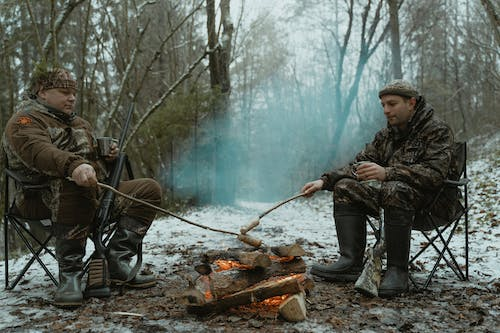gun: (83, 100, 138, 299)
